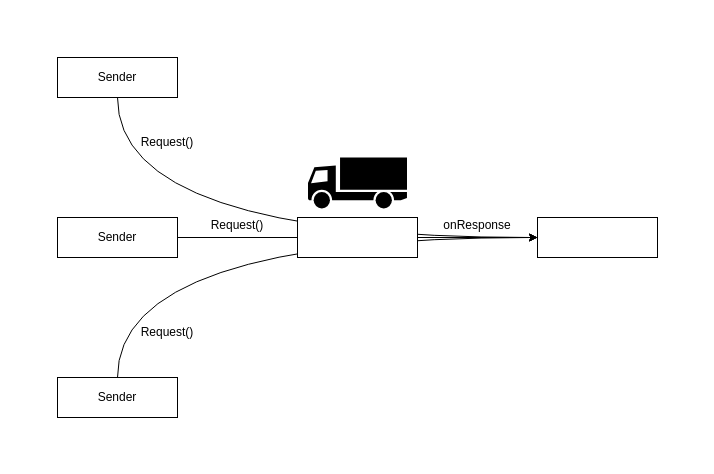
Image size: 714x474. Some labels were removed from this diagram. Here are the shapes that lost their labels. From the top down, the box of each, then its label:
(296, 216, 418, 258): Event Truck
(536, 216, 658, 258): Receiver
